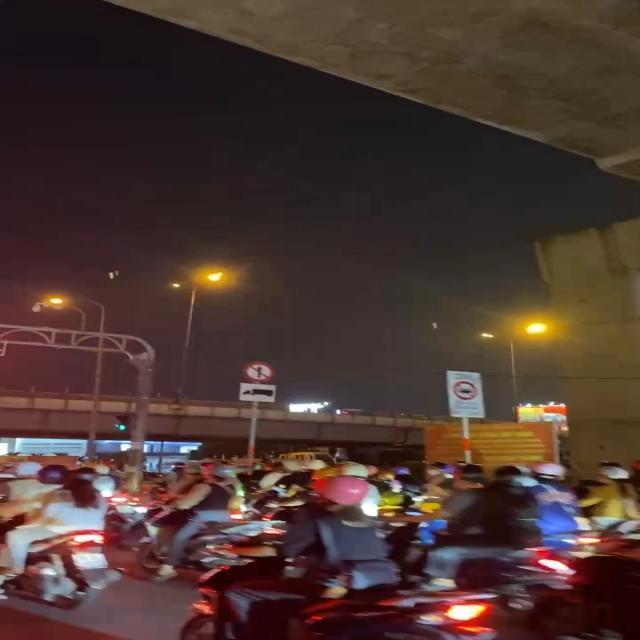136-cam-di-thang: (242, 361, 274, 383)
